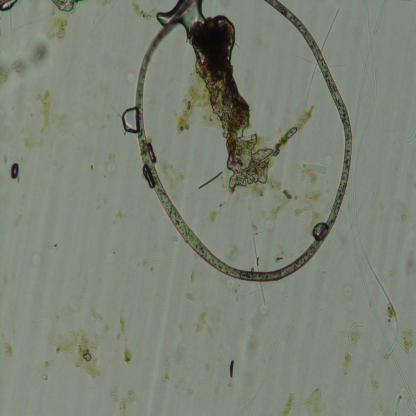Air bubble: (154, 0, 206, 30), (119, 108, 138, 136)
Background material: (188, 13, 308, 191), (42, 305, 111, 391), (262, 177, 324, 231), (0, 39, 52, 90), (22, 95, 62, 150), (174, 81, 211, 139), (45, 0, 81, 43), (282, 383, 327, 416), (193, 309, 220, 347), (206, 194, 236, 228), (116, 314, 133, 370), (160, 156, 185, 192), (109, 384, 137, 414), (397, 325, 416, 358), (131, 1, 158, 22), (340, 350, 354, 378), (5, 160, 21, 183), (365, 369, 379, 392), (0, 0, 20, 16)
Glass filter fibre: (351, 0, 413, 401), (238, 266, 337, 413), (292, 63, 317, 167), (285, 163, 327, 182), (346, 320, 364, 347), (406, 394, 416, 414), (405, 128, 416, 143), (394, 394, 402, 414)
Microfibre: (136, 0, 353, 283)
